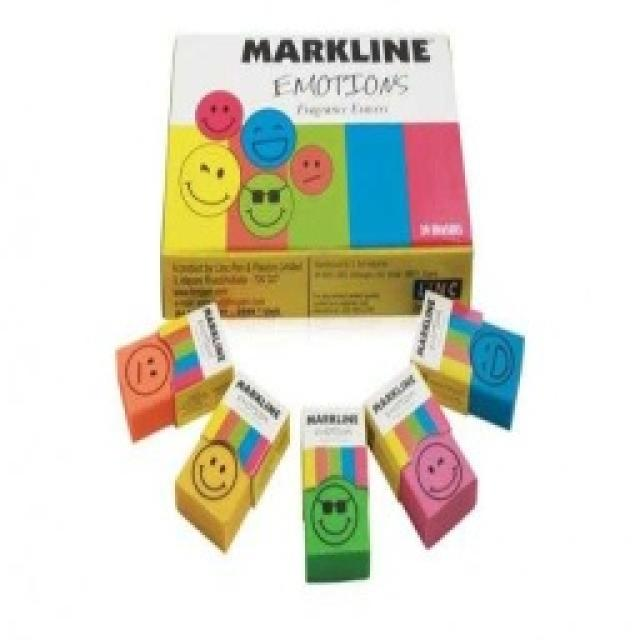Silgi: (110, 300, 237, 443)
